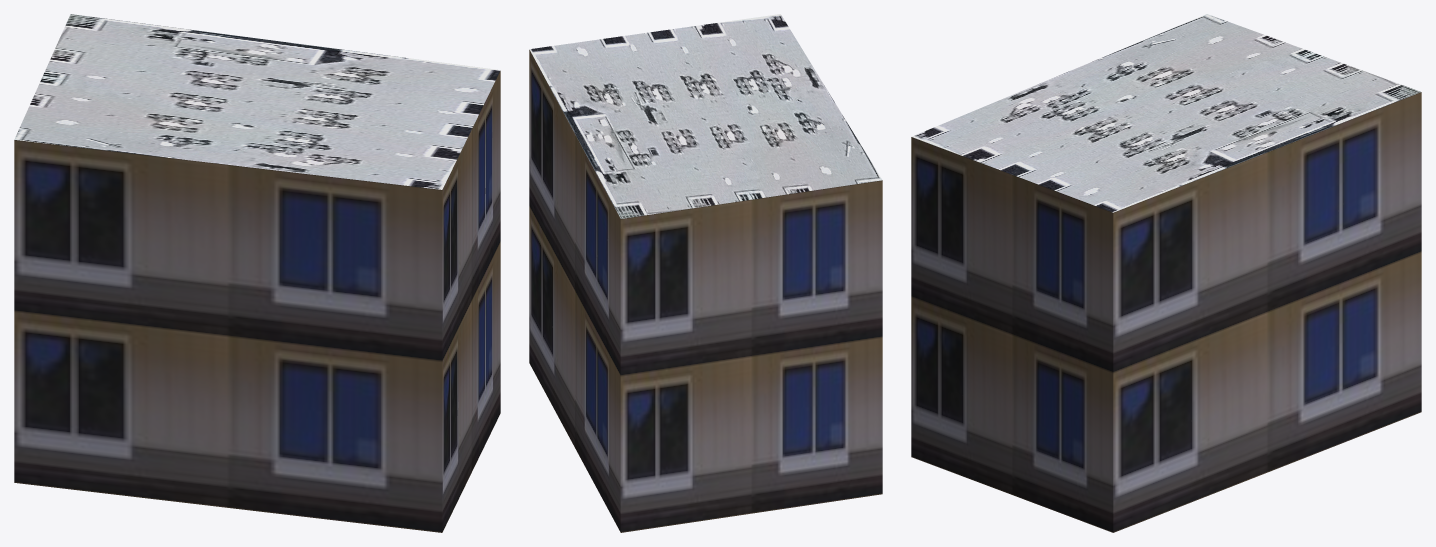
Rendered from ResTex__1821.fbx.
The picture shows the model from 3 angles, left to right: view 1: azimuth 30°, elevation 25°; view 2: azimuth 150°, elevation 25°; view 3: azimuth 270°, elevation 25°; orthographic projection. The views are drawn at different scales.
Visible parts, largest first — view 1: CityEngineMaterial_5_m, CityEngineMaterial_4_m; view 2: CityEngineMaterial_5_m, CityEngineMaterial_4_m; view 3: CityEngineMaterial_5_m, CityEngineMaterial_4_m.
Boxes of the visible parts, <box> form: CityEngineMaterial_5_m: <box>14,71,500,532</box>; CityEngineMaterial_4_m: <box>14,14,500,189</box>; CityEngineMaterial_5_m: <box>529,50,882,532</box>; CityEngineMaterial_4_m: <box>529,14,882,218</box>; CityEngineMaterial_5_m: <box>911,92,1421,532</box>; CityEngineMaterial_4_m: <box>911,14,1420,212</box>.
Bounding box in the file's own units: 7.99 × 6 × 8.66.
Materials: 2 (2 with a texture image).
